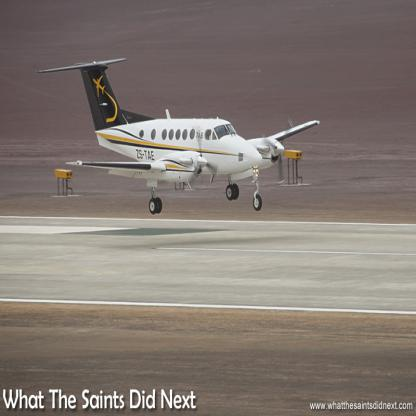CIV_Plane: (24, 50, 324, 239)
